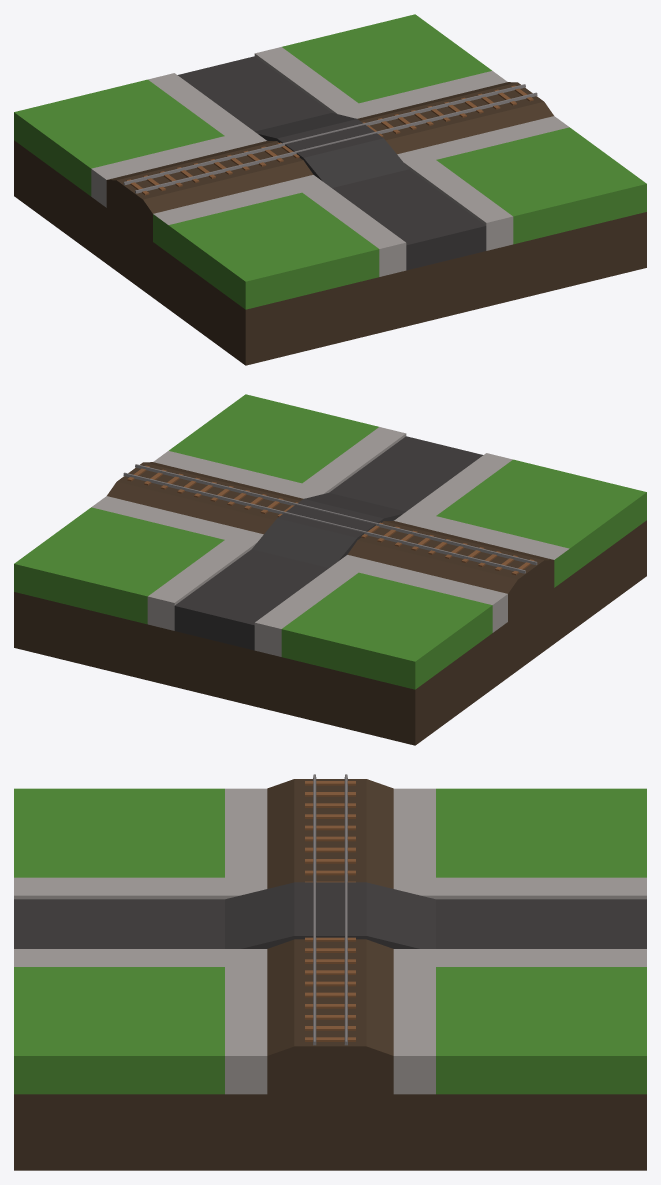
File: tiles_tile-rail-road-crossing.fbx
The picture shows the model from 3 angles, top to bottom: view 1: azimuth 30°, elevation 25°; view 2: azimuth 150°, elevation 25°; view 3: azimuth 270°, elevation 25°; orthographic projection. The views are drawn at different scales.
Parts seen in each view (by area): view 1: tiles_tile_rail_road_crossing; view 2: tiles_tile_rail_road_crossing; view 3: tiles_tile_rail_road_crossing.
Boxes of the visible parts, box(x1,y1,x2,y2) form: tiles_tile_rail_road_crossing: box(14, 14, 646, 365); tiles_tile_rail_road_crossing: box(14, 394, 646, 745); tiles_tile_rail_road_crossing: box(14, 774, 646, 1170).
Bounding box in the file's own units: 200 × 44.97 × 200.
